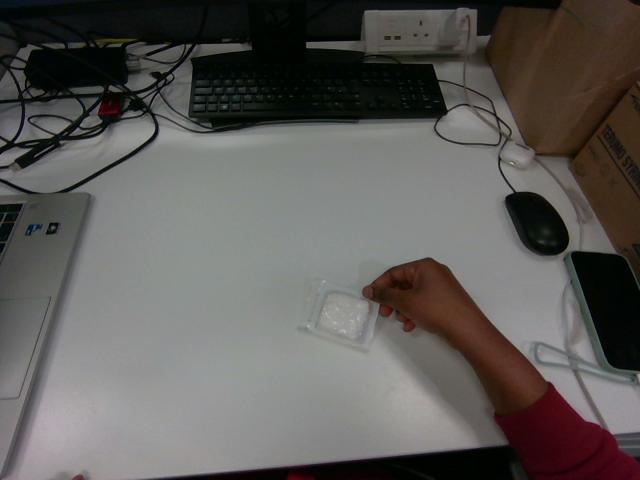gauze: (301, 279, 378, 350)
